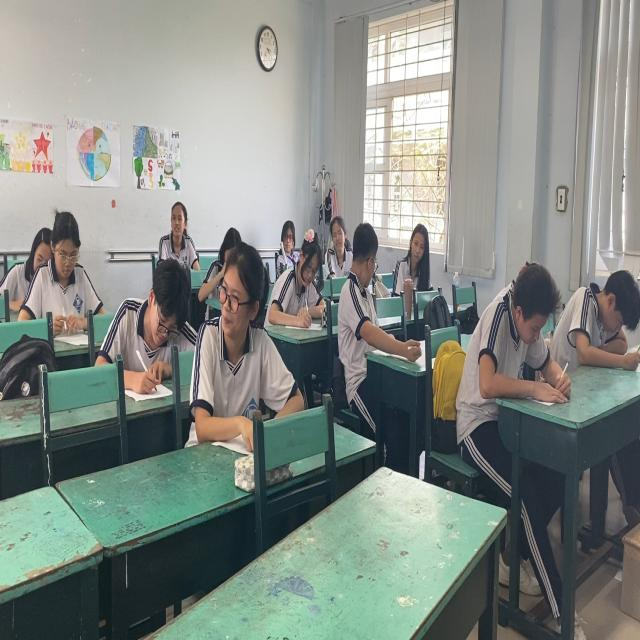cheating: (200, 240, 279, 423), (348, 212, 390, 354)
not_cheating: (474, 261, 567, 413), (19, 202, 98, 330), (115, 264, 192, 392), (565, 249, 640, 367), (285, 237, 336, 333), (386, 220, 437, 300), (155, 196, 202, 272), (276, 212, 296, 261), (330, 219, 347, 271)
